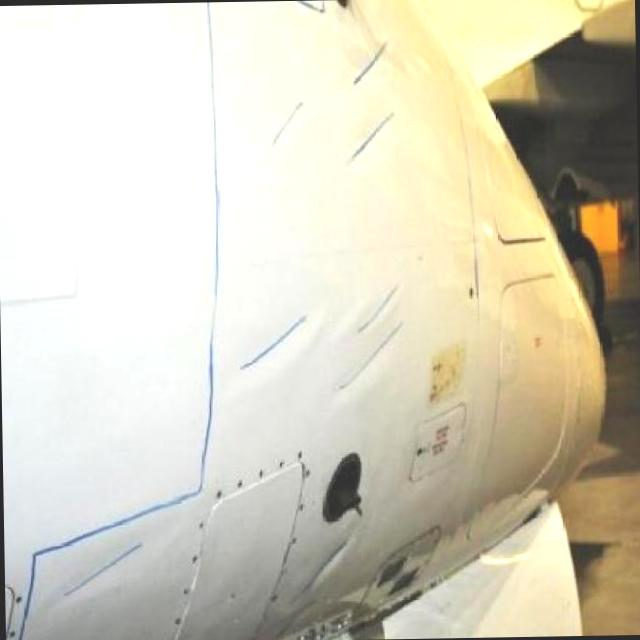dent: (334, 284, 400, 398), (53, 544, 143, 602), (233, 314, 310, 381), (340, 110, 396, 170), (304, 544, 347, 594), (270, 100, 305, 138), (353, 44, 383, 82)
